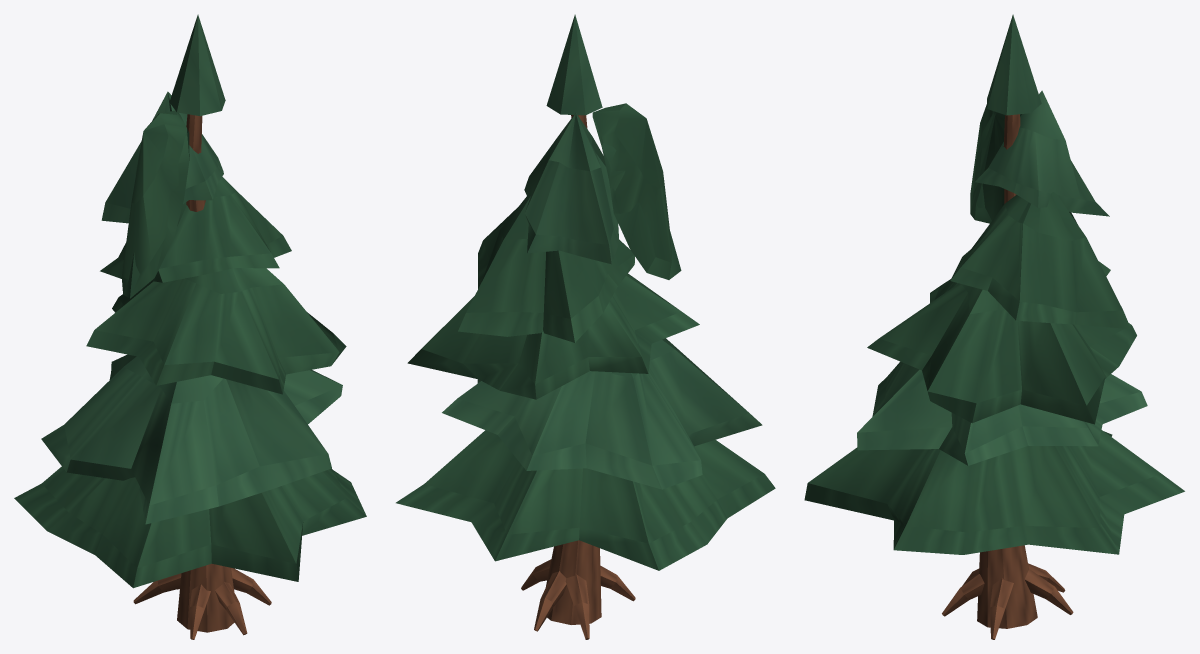
Rendered from SM_Tree_Pine_Medium02.fbx.
3 views of the same model, side by side, from view 1: azimuth 30°, elevation 25°; view 2: azimuth 150°, elevation 25°; view 3: azimuth 270°, elevation 25° (orthographic).
Visible parts, largest first — view 1: SM_Tree_Pine_Medium02; view 2: SM_Tree_Pine_Medium02; view 3: SM_Tree_Pine_Medium02.
Boxes of the visible parts, box(x1,y1,x2,y2) form: SM_Tree_Pine_Medium02: box(14, 14, 366, 639); SM_Tree_Pine_Medium02: box(396, 14, 775, 639); SM_Tree_Pine_Medium02: box(804, 14, 1184, 639).
Size of the model in its own units: 8.14 by 17.47 by 10.01.
Materials: 1 (1 with a texture image).
